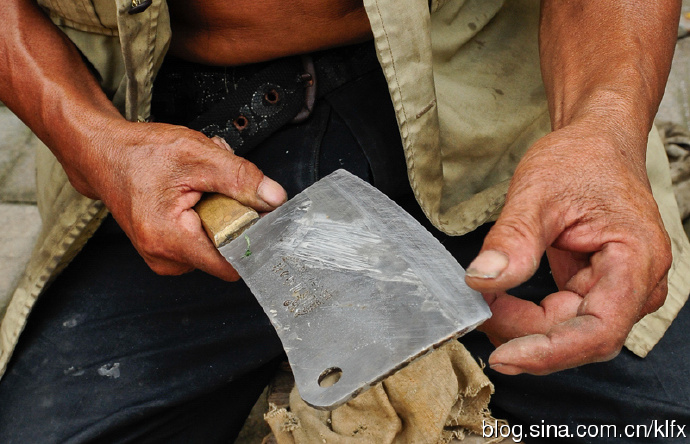knief: (191, 175, 502, 394)
